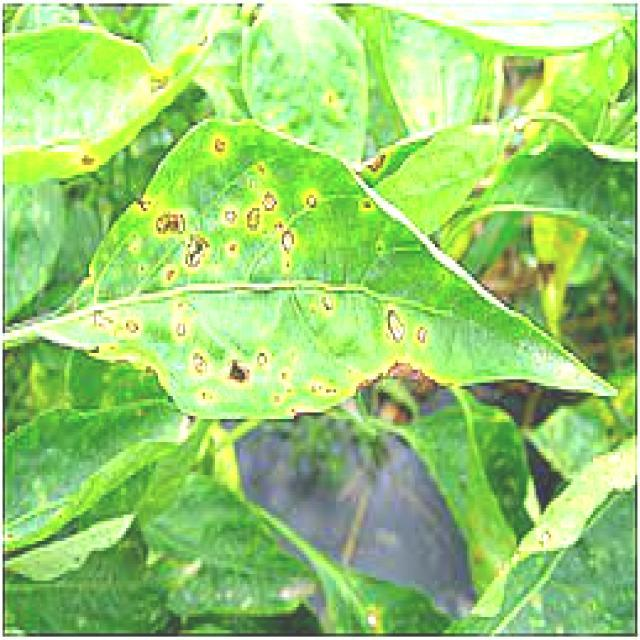Bercak Daun Serkospora: (0, 114, 623, 435)
